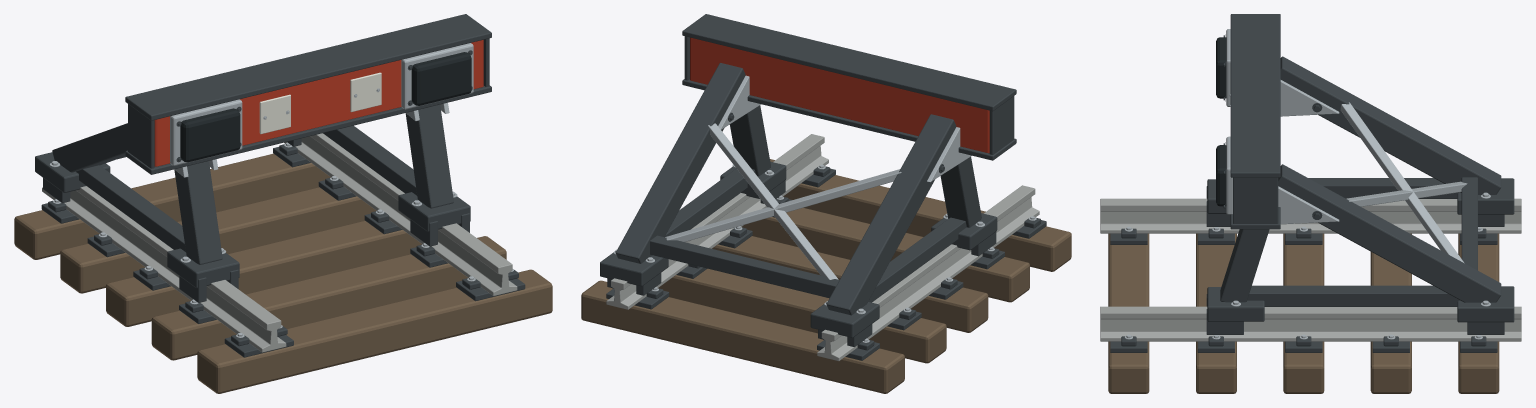
The model's file is city-railway-buffer-stop.glb.
The picture shows the model from 3 angles, left to right: view 1: azimuth 30°, elevation 25°; view 2: azimuth 150°, elevation 25°; view 3: azimuth 270°, elevation 25°; orthographic projection. The views are drawn at different scales.
Parts seen in each view (by area): view 1: Assembly | Dark pressure-treated sleeper timber, Assembly | Cast structural iron, Assembly | Railhead polished steel, Assembly | Muted vermilion enamel, Assembly | Graphite elastomer, Assembly | Satin galvanized steel, Assembly | Warm reflective-looking solid enamel; view 2: Assembly | Cast structural iron, Assembly | Dark pressure-treated sleeper timber, Assembly | Muted vermilion enamel, Assembly | Railhead polished steel, Assembly | Satin galvanized steel; view 3: Assembly | Cast structural iron, Assembly | Railhead polished steel, Assembly | Dark pressure-treated sleeper timber, Assembly | Satin galvanized steel, Assembly | Graphite elastomer.
Boxes of the visible parts, box(x1,y1,x2,y2) form: Assembly | Dark pressure-treated sleeper timber: box(14, 153, 552, 393); Assembly | Cast structural iron: box(35, 14, 525, 357); Assembly | Railhead polished steel: box(42, 133, 517, 352); Assembly | Muted vermilion enamel: box(154, 40, 483, 166); Assembly | Graphite elastomer: box(180, 52, 471, 162); Assembly | Satin galvanized steel: box(49, 43, 513, 337); Assembly | Warm reflective-looking solid enamel: box(259, 72, 381, 134); Assembly | Cast structural iron: box(600, 14, 1046, 360); Assembly | Dark pressure-treated sleeper timber: box(581, 159, 1071, 393); Assembly | Muted vermilion enamel: box(690, 37, 989, 153); Assembly | Railhead polished steel: box(606, 134, 1039, 361); Assembly | Satin galvanized steel: box(613, 75, 1036, 342); Assembly | Cast structural iron: box(1110, 14, 1514, 352); Assembly | Railhead polished steel: box(1100, 198, 1521, 341); Assembly | Dark pressure-treated sleeper timber: box(1108, 233, 1499, 393); Assembly | Satin galvanized steel: box(1124, 29, 1490, 339); Assembly | Graphite elastomer: box(1216, 37, 1226, 206).
Bounding box in the file's own units: 2.11 × 1.38 × 2.36.
